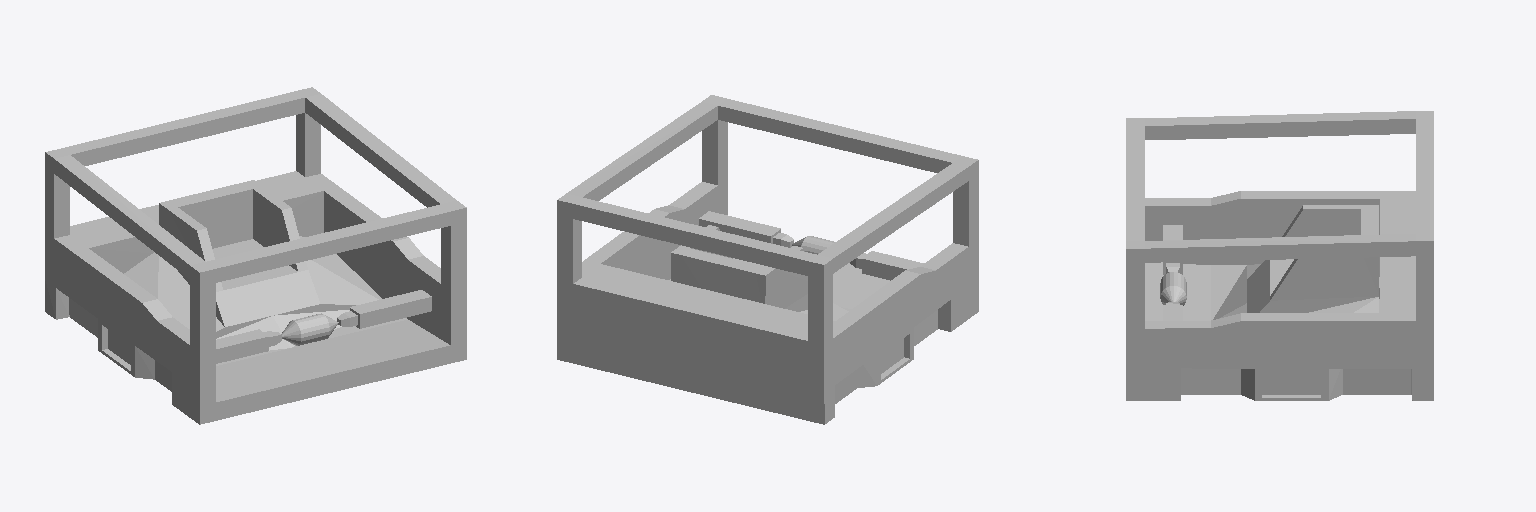
Rendered from Kart3.obj.
3 renders of one model, left to right at view 1: azimuth 30°, elevation 25°; view 2: azimuth 150°, elevation 25°; view 3: azimuth 270°, elevation 25°, orthographic.
Visible parts, largest first — view 1: pCylinder2; view 2: pCylinder2; view 3: pCylinder2.
Boxes of the visible parts, box(x1,y1,x2,y2) form: pCylinder2: box(45, 87, 466, 424); pCylinder2: box(557, 95, 978, 424); pCylinder2: box(1126, 111, 1433, 400).
Size of the model in its own units: 1 by 0.5718 by 1.